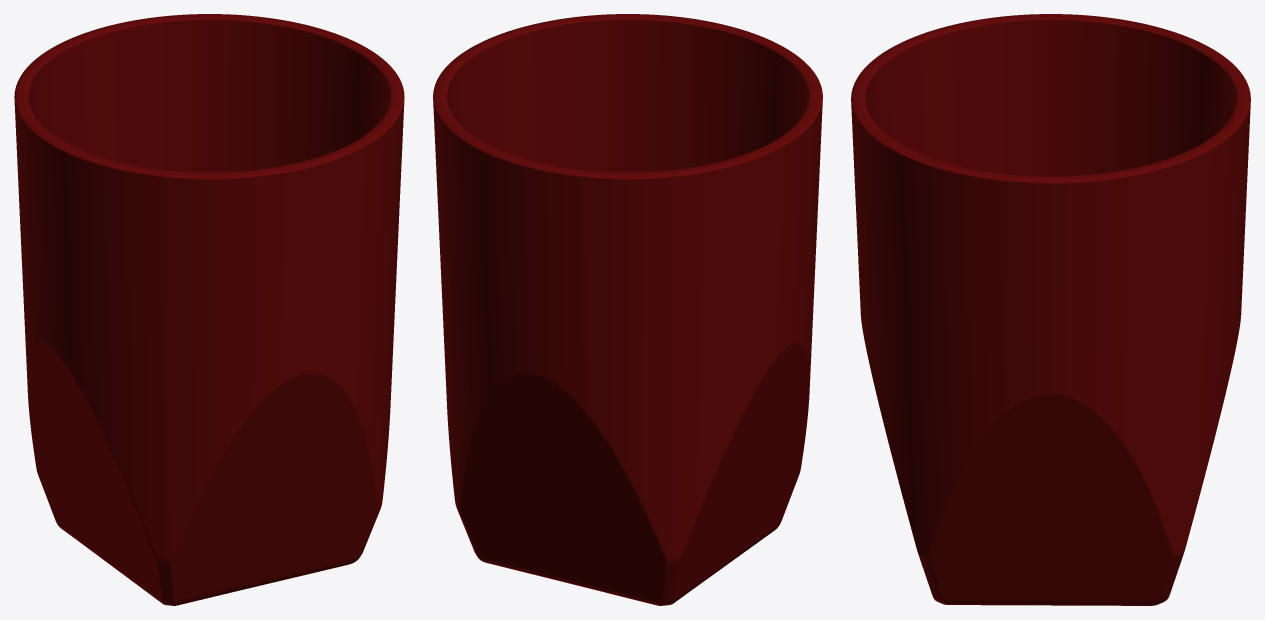
File: camellia 50.glb
3 renders of one model, left to right at view 1: azimuth 30°, elevation 25°; view 2: azimuth 150°, elevation 25°; view 3: azimuth 270°, elevation 25°, orthographic. The views are drawn at different scales.
Size of the model in its own units: 0.066 by 0.0844 by 0.066.
